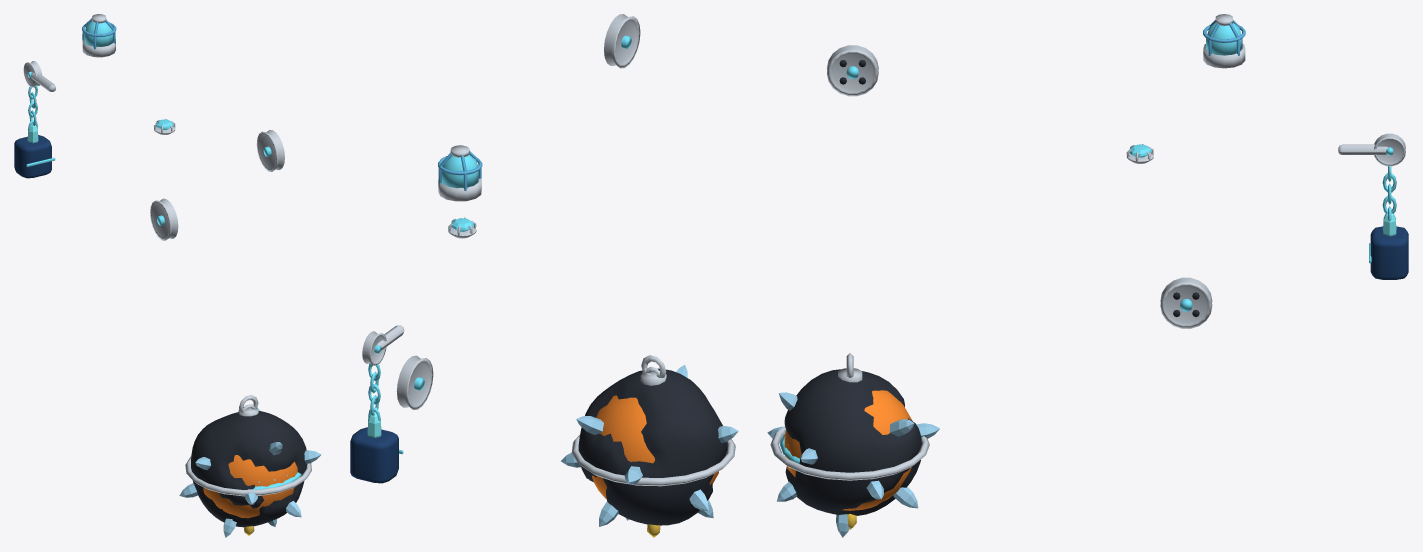
The model's file is WreckingCrane_T3_Upgrades.fbx.
3 views of the same model, side by side, from view 1: azimuth 30°, elevation 25°; view 2: azimuth 150°, elevation 25°; view 3: azimuth 270°, elevation 25° (orthographic). The views are drawn at different scales.
Parts seen in each view (by area): view 1: WreckingCraneT3U5Ball, WreckingCraneT3U5BallGlow, WreckingCraneT3U3Counterweight, WreckingCraneT3U1Ball, WreckingCraneT3U3Pulley2, WreckingCraneT3U3Pulley1, WreckingCraneT3U2Lamp2, WreckingCraneT3U3CounterweightGlow, WreckingCraneT3U2Lamp2Glow; view 2: WreckingCraneT3U5Ball, WreckingCraneT3U3Counterweight, WreckingCraneT3U5BallGlow, WreckingCraneT3U1Ball, WreckingCraneT3U3Pulley1, WreckingCraneT3U3Pulley2, WreckingCraneT3U2Lamp2, WreckingCraneT3U2Lamp2Glow, WreckingCraneT3U3CounterweightGlow; view 3: WreckingCraneT3U5Ball, WreckingCraneT3U3Counterweight, WreckingCraneT3U1Ball, WreckingCraneT3U3Pulley2, WreckingCraneT3U3Pulley1, WreckingCraneT3U5BallGlow, WreckingCraneT3U2Lamp2, WreckingCraneT3U3CounterweightGlow, WreckingCraneT3U2Lamp2Glow.
Part boxes in pixels (<box>): WreckingCraneT3U5Ball: <box>185,395,311,527</box>; WreckingCraneT3U5BallGlow: <box>203,455,297,535</box>; WreckingCraneT3U3Counterweight: <box>14,61,55,178</box>; WreckingCraneT3U1Ball: <box>179,404,321,537</box>; WreckingCraneT3U3Pulley2: <box>150,198,178,240</box>; WreckingCraneT3U3Pulley1: <box>256,130,284,171</box>; WreckingCraneT3U2Lamp2: <box>82,14,116,57</box>; WreckingCraneT3U3CounterweightGlow: <box>26,85,55,167</box>; WreckingCraneT3U2Lamp2Glow: <box>84,21,113,46</box>; WreckingCraneT3U5Ball: <box>571,355,735,525</box>; WreckingCraneT3U3Counterweight: <box>350,325,404,483</box>; WreckingCraneT3U5BallGlow: <box>592,395,718,537</box>; WreckingCraneT3U1Ball: <box>561,365,738,526</box>; WreckingCraneT3U3Pulley1: <box>604,14,640,68</box>; WreckingCraneT3U3Pulley2: <box>396,355,433,409</box>; WreckingCraneT3U2Lamp2: <box>438,145,482,201</box>; WreckingCraneT3U2Lamp2Glow: <box>442,154,478,188</box>; WreckingCraneT3U3CounterweightGlow: <box>367,363,403,454</box>; WreckingCraneT3U5Ball: <box>770,353,929,515</box>; WreckingCraneT3U3Counterweight: <box>1338,133,1408,279</box>; WreckingCraneT3U1Ball: <box>767,392,939,537</box>; WreckingCraneT3U3Pulley2: <box>1160,277,1212,328</box>; WreckingCraneT3U3Pulley1: <box>827,45,878,96</box>; WreckingCraneT3U5BallGlow: <box>784,390,912,529</box>; WreckingCraneT3U2Lamp2: <box>1203,14,1245,68</box>; WreckingCraneT3U3CounterweightGlow: <box>1369,166,1396,263</box>; WreckingCraneT3U2Lamp2Glow: <box>1206,23,1242,55</box>.
Size of the model in its own units: 132 by 428 by 492.
